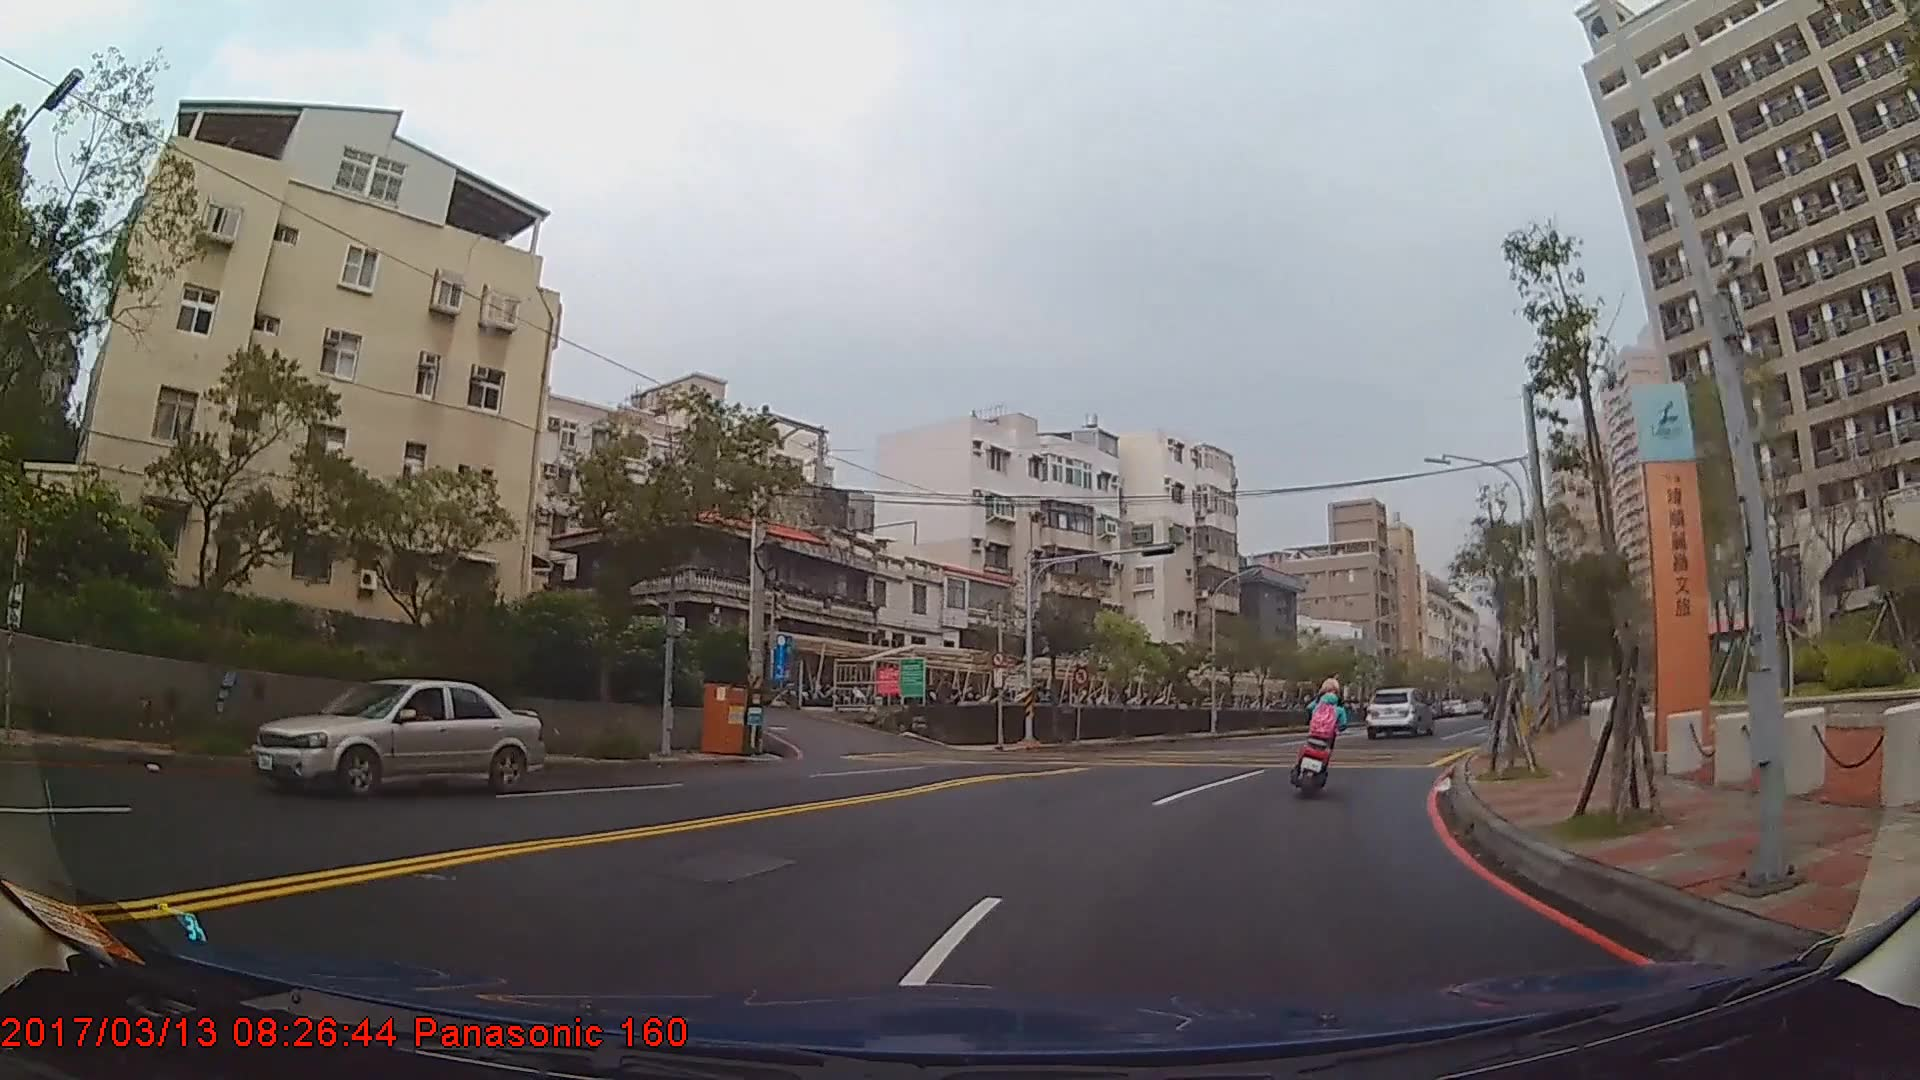rider: (1293, 676, 1352, 793)
vehicle: (248, 678, 545, 798), (1364, 686, 1430, 738)
